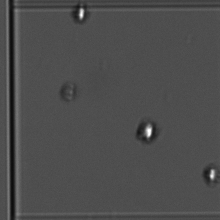Dead Cell: (59, 79, 81, 106)
Living Cell: (134, 117, 160, 144), (199, 161, 220, 187), (70, 4, 92, 25)
